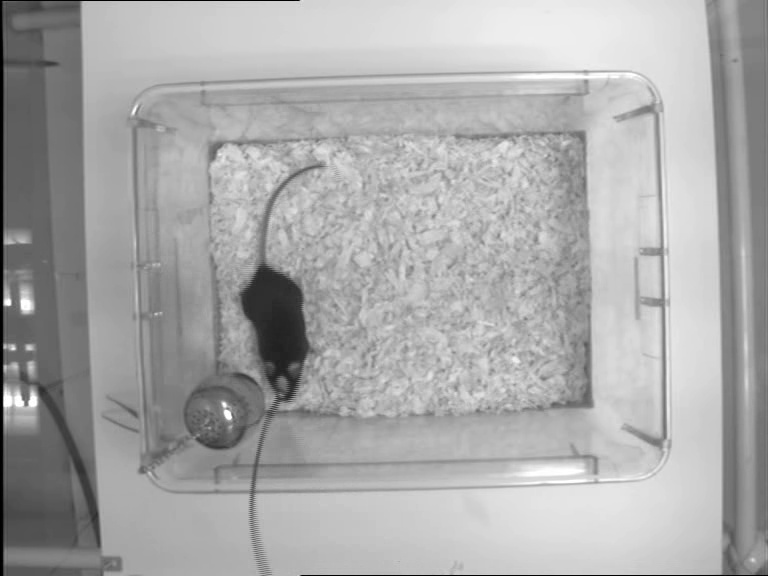mice: (237, 162, 331, 402)
